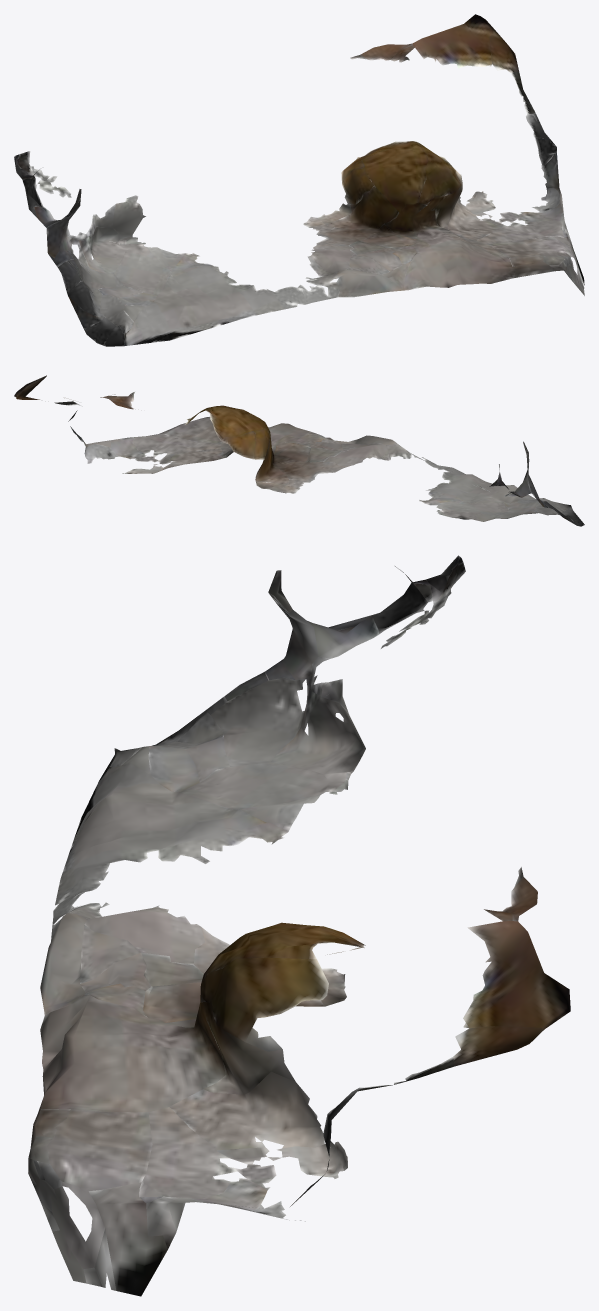
Rendered from hall.glb.
3 renders of one model, top to bottom at view 1: azimuth 30°, elevation 25°; view 2: azimuth 150°, elevation 25°; view 3: azimuth 270°, elevation 25°, orthographic. The views are drawn at different scales.
Bounding box in the file's own units: 0.9129 × 0.2919 × 0.4544.
1 material, 1 textured.
